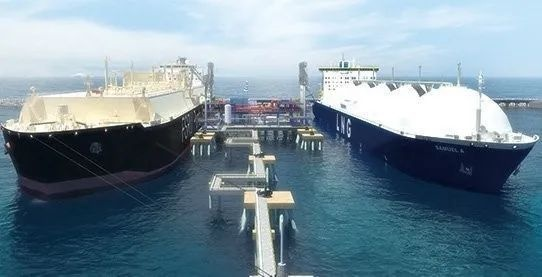Cargoship: (307, 48, 537, 196), (2, 55, 208, 196)
